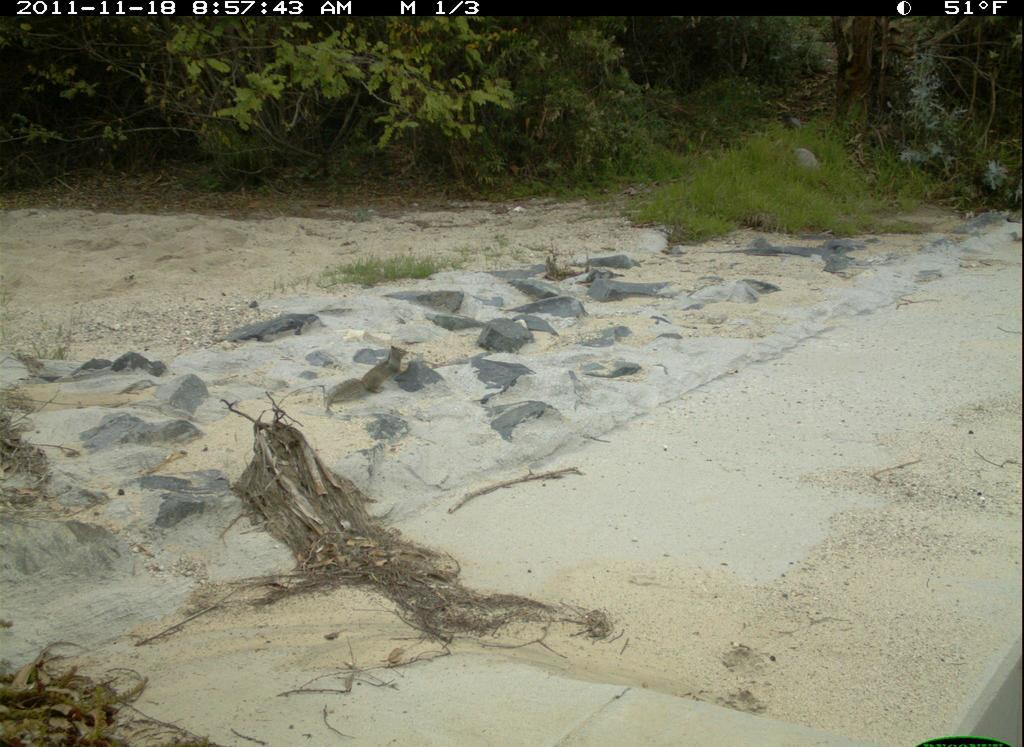squirrel: (313, 340, 422, 422)
